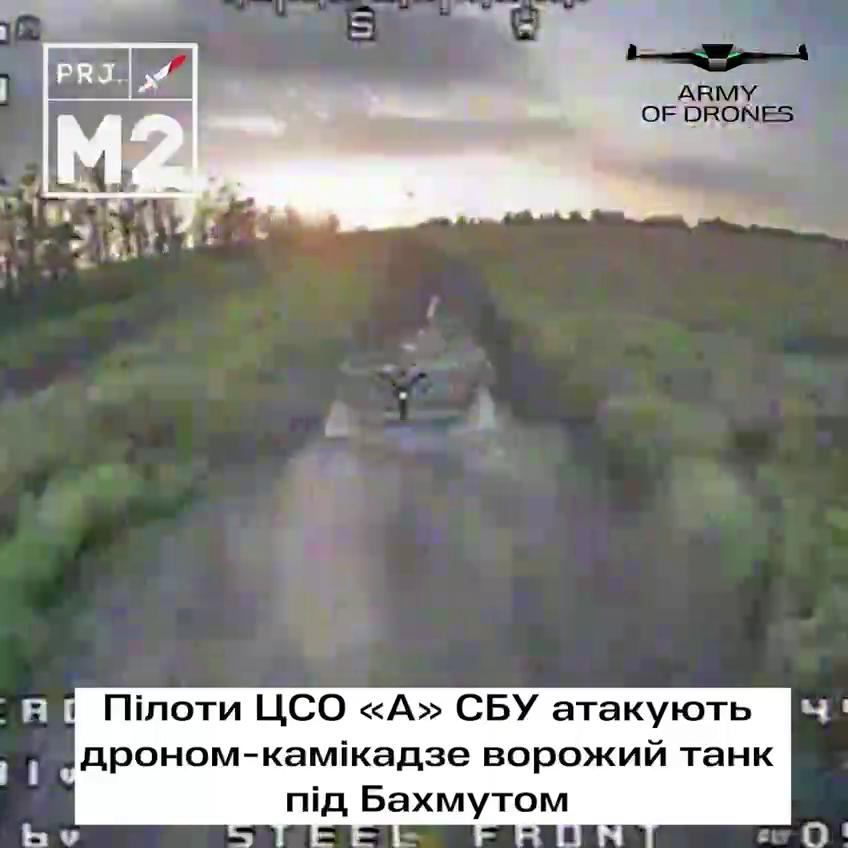tank: (324, 287, 510, 491)
